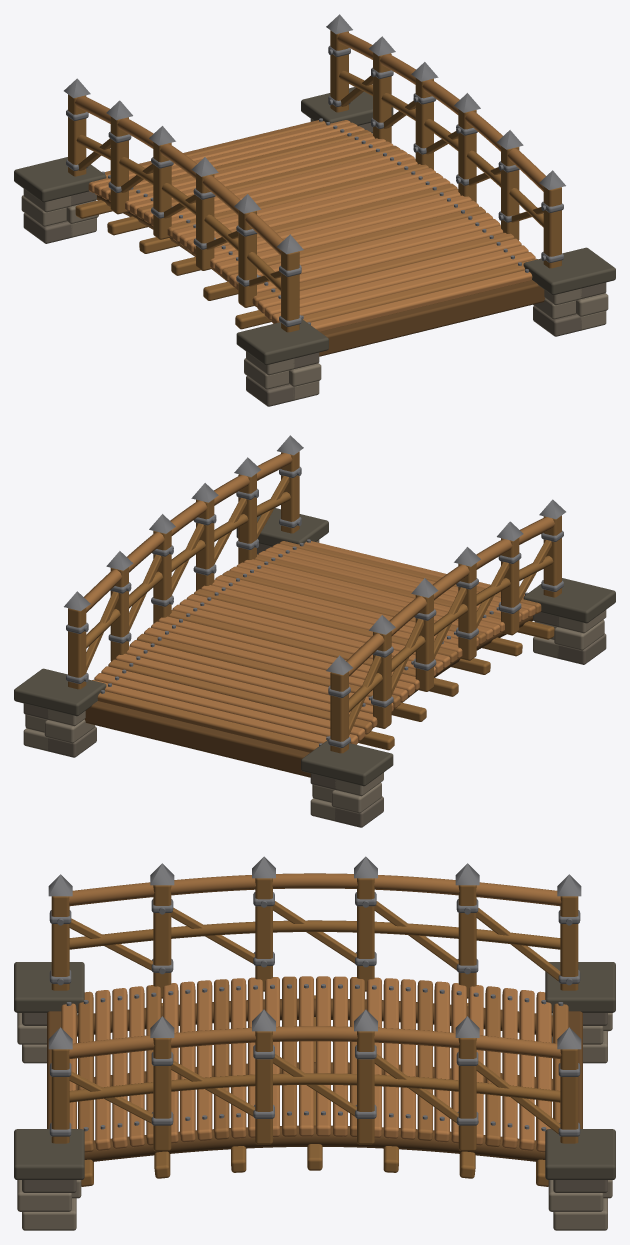
The model's file is wooden-bridge.glb.
3 views of the same model, one above another, from view 1: azimuth 30°, elevation 25°; view 2: azimuth 150°, elevation 25°; view 3: azimuth 270°, elevation 25° (orthographic). The views are drawn at different scales.
Parts seen in each view (by area): view 1: wooden-bridge-farm-wood-light, wooden-bridge-farm-wood-dark, wooden-bridge-farm-wood, wooden-bridge-farm-stone-dark, wooden-bridge-farm-metal, wooden-bridge-farm-wood-shadow, wooden-bridge-farm-stone, wooden-bridge-farm-rock; view 2: wooden-bridge-farm-wood-light, wooden-bridge-farm-wood-dark, wooden-bridge-farm-wood, wooden-bridge-farm-stone-dark, wooden-bridge-farm-metal, wooden-bridge-farm-wood-shadow, wooden-bridge-farm-stone, wooden-bridge-farm-rock; view 3: wooden-bridge-farm-wood-dark, wooden-bridge-farm-wood-light, wooden-bridge-farm-wood, wooden-bridge-farm-stone-dark, wooden-bridge-farm-metal, wooden-bridge-farm-wood-shadow, wooden-bridge-farm-stone, wooden-bridge-farm-rock.
Boxes of the visible parts, x1,y1,x2,y2 form: wooden-bridge-farm-wood-light: (88,120,535,331); wooden-bridge-farm-wood-dark: (68,30,561,332); wooden-bridge-farm-wood: (75,32,545,322); wooden-bridge-farm-stone-dark: (14,87,615,365); wooden-bridge-farm-metal: (64,14,565,326); wooden-bridge-farm-wood-shadow: (96,195,545,356); wooden-bridge-farm-stone: (21,119,608,400); wooden-bridge-farm-rock: (23,122,606,406); wooden-bridge-farm-wood-light: (92,541,535,744); wooden-bridge-farm-wood-dark: (68,451,561,753); wooden-bridge-farm-wood: (84,453,554,752); wooden-bridge-farm-stone-dark: (14,508,615,786); wooden-bridge-farm-metal: (64,435,565,747); wooden-bridge-farm-wood-shadow: (84,616,533,777); wooden-bridge-farm-stone: (23,540,606,821); wooden-bridge-farm-rock: (23,543,606,827); wooden-bridge-farm-wood-dark: (51,878,578,1186); wooden-bridge-farm-wood-light: (61,976,551,1152); wooden-bridge-farm-wood: (68,873,568,1152); wooden-bridge-farm-stone-dark: (14,962,615,1179); wooden-bridge-farm-metal: (48,856,581,1136); wooden-bridge-farm-wood-shadow: (47,998,582,1161); wooden-bridge-farm-stone: (17,1013,612,1230); wooden-bridge-farm-rock: (22,1013,607,1198).
Bounding box in the file's own units: 5.15 × 2.34 × 6.39.
